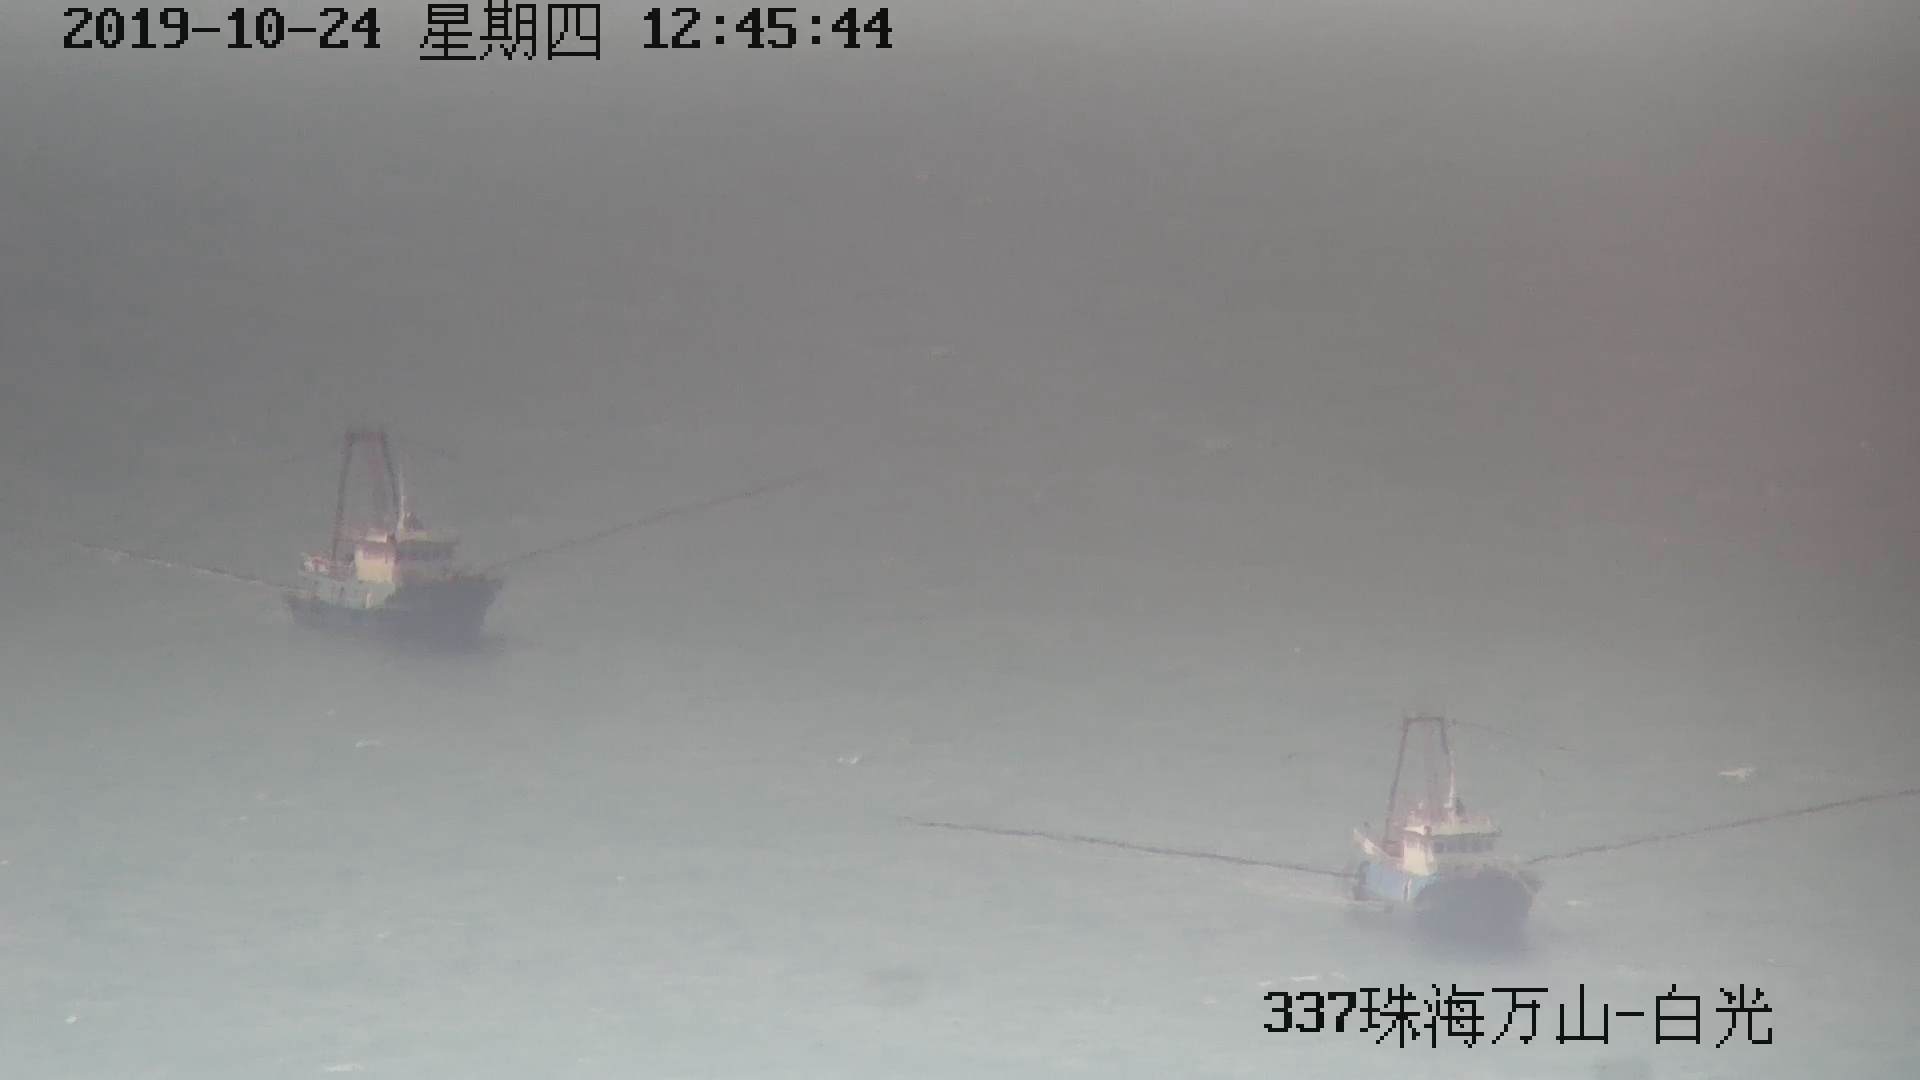ship: (284, 427, 509, 647), (1352, 713, 1536, 949)
